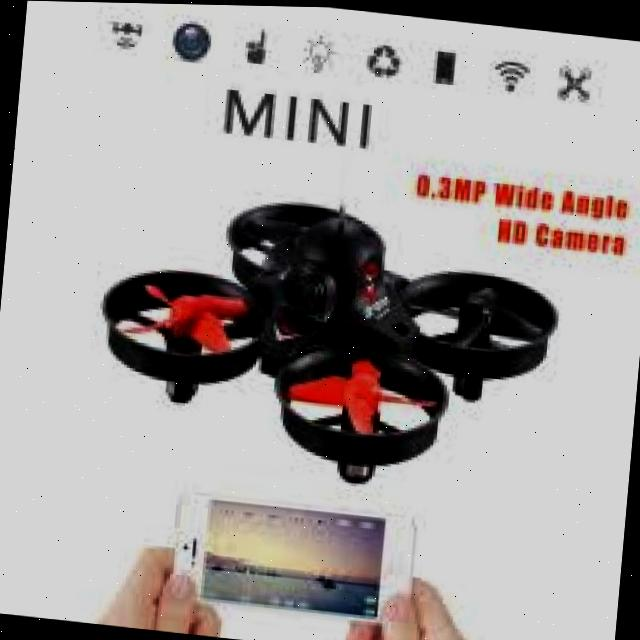drone: (77, 163, 592, 522)
